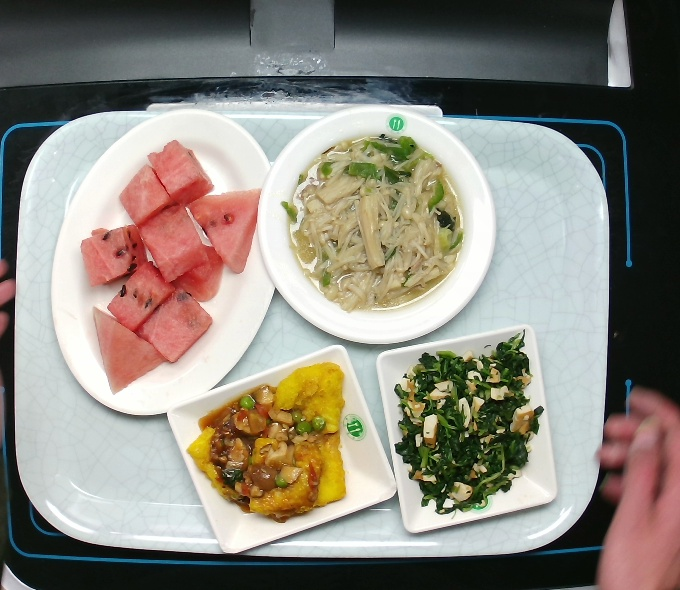wcq-CuiPiDouFu: (186, 360, 348, 524)
wcq-JinZhenGu: (284, 134, 464, 313)
wcq-MaLanTouChaoDouGan: (394, 337, 546, 512)
wcq-XiGua: (78, 138, 262, 397)
